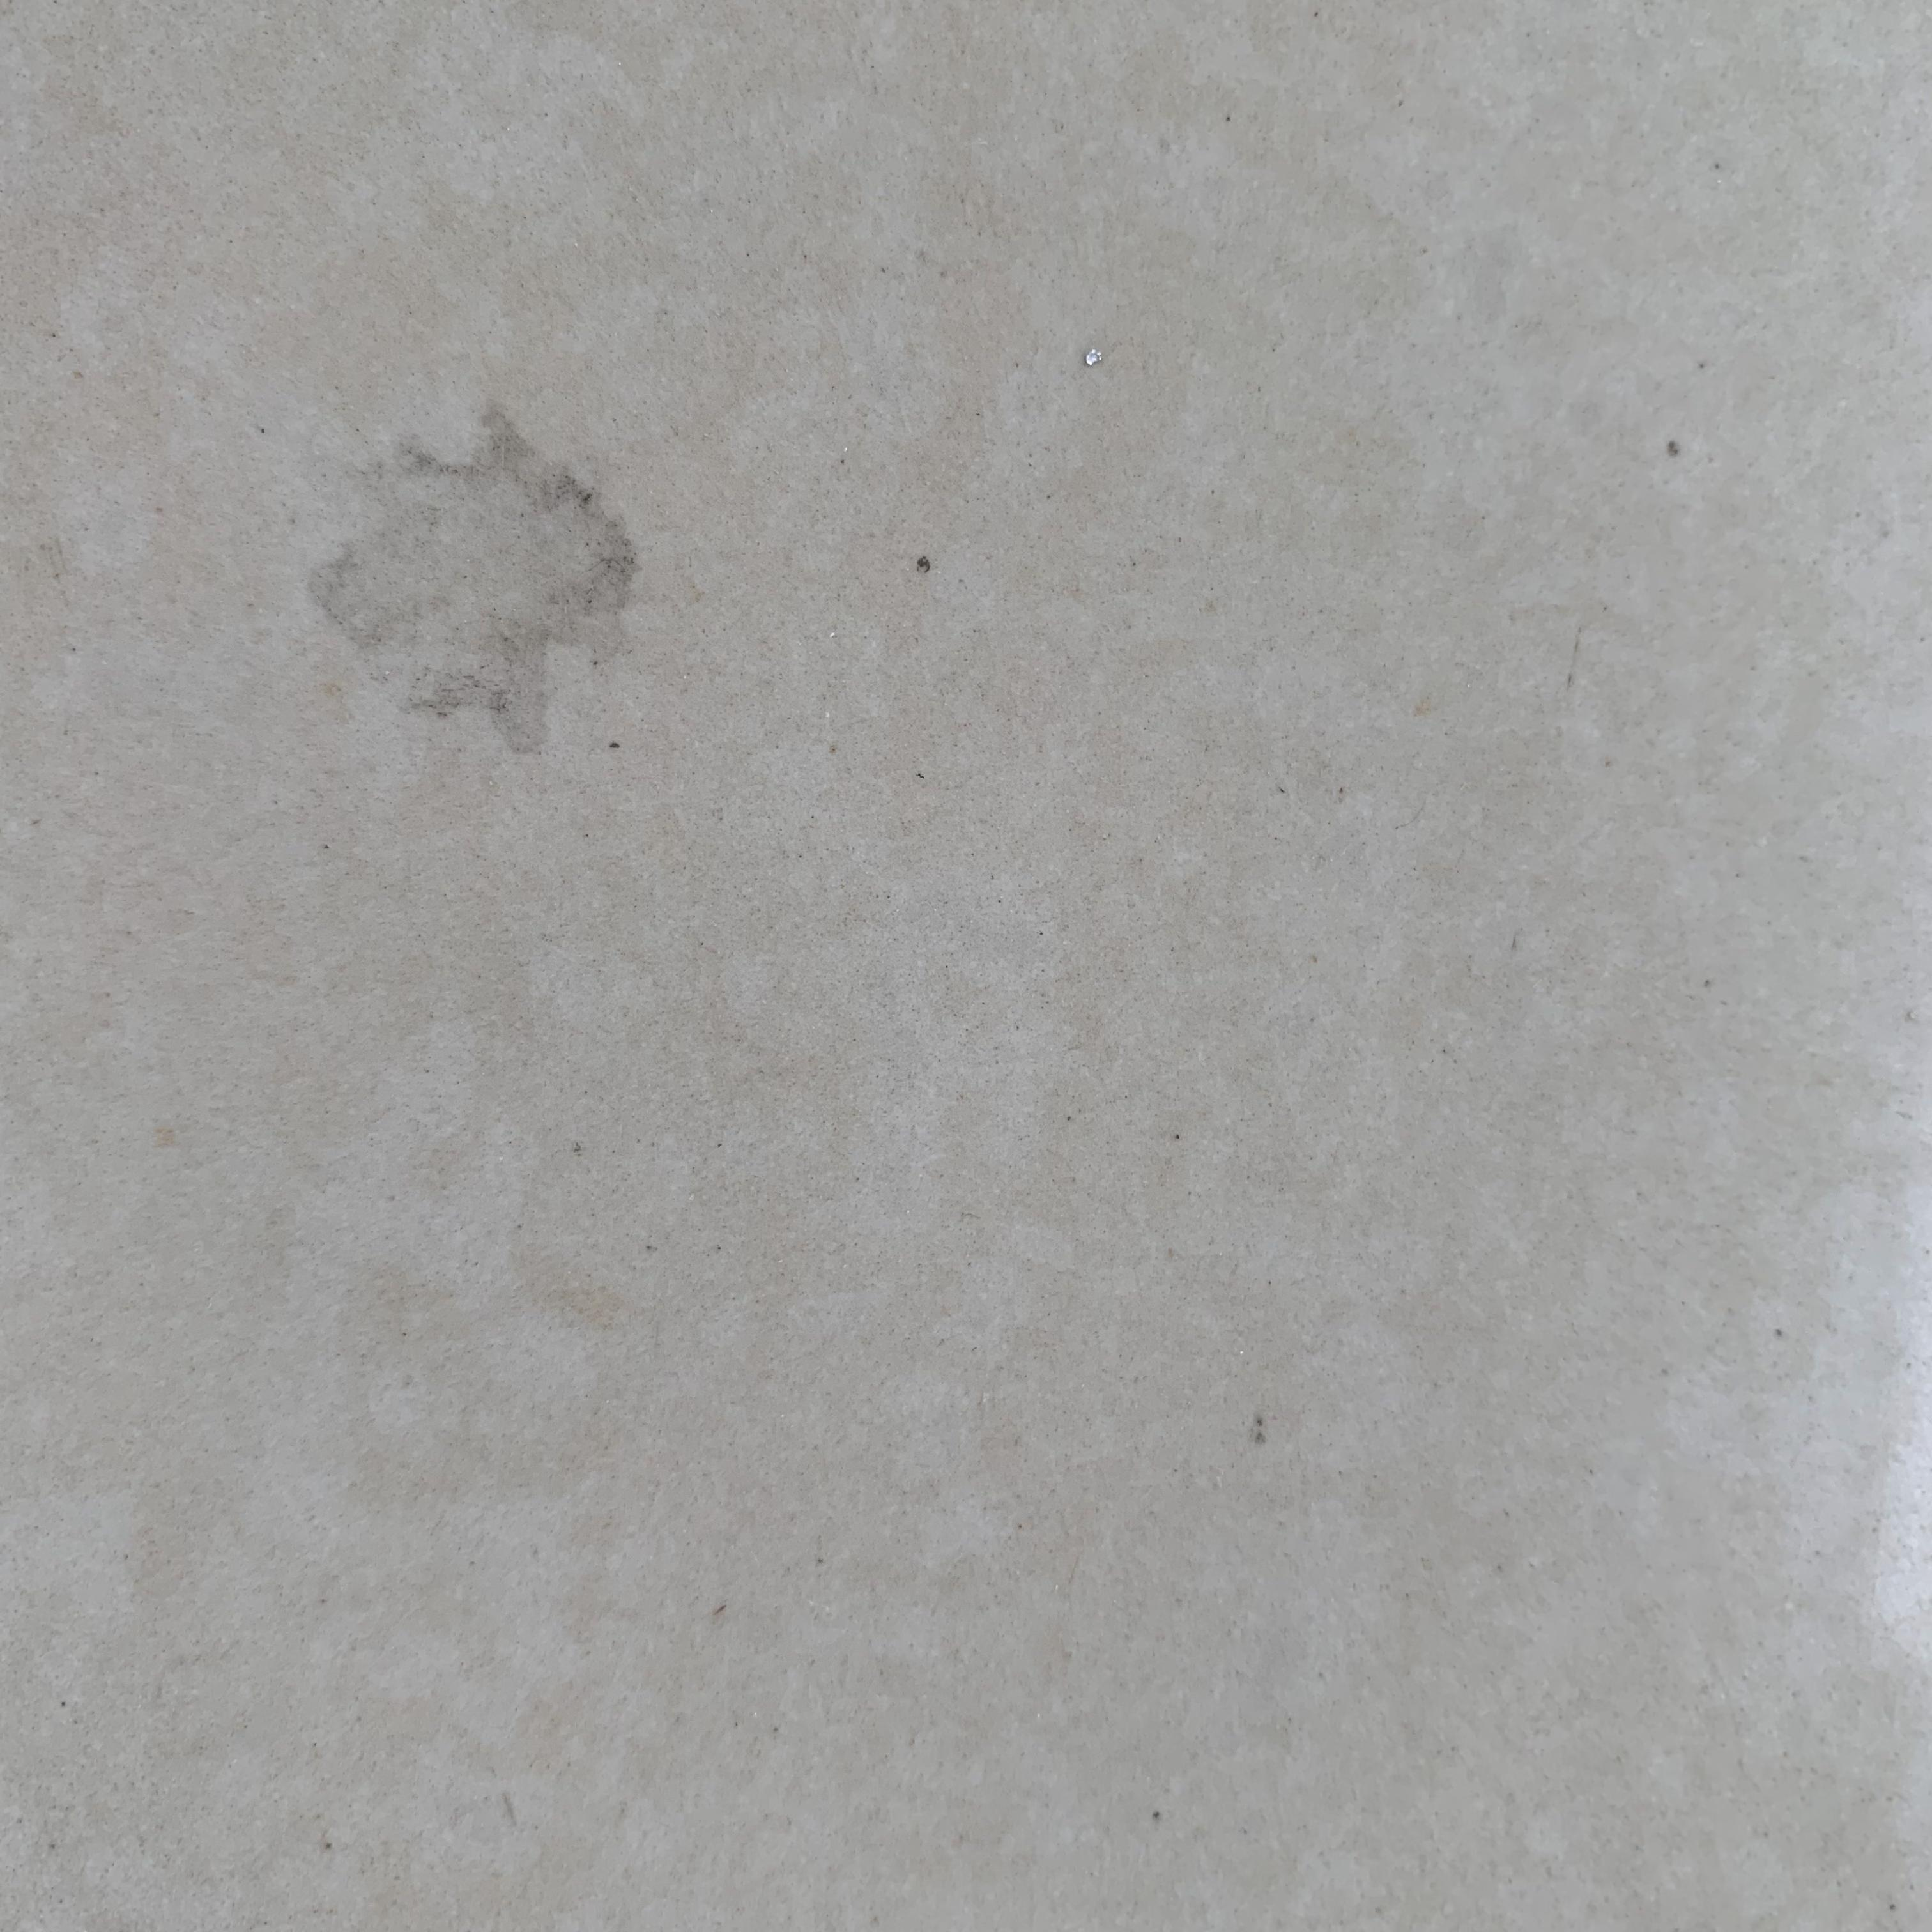grey spot: (308, 409, 642, 755), (916, 556, 931, 573)
